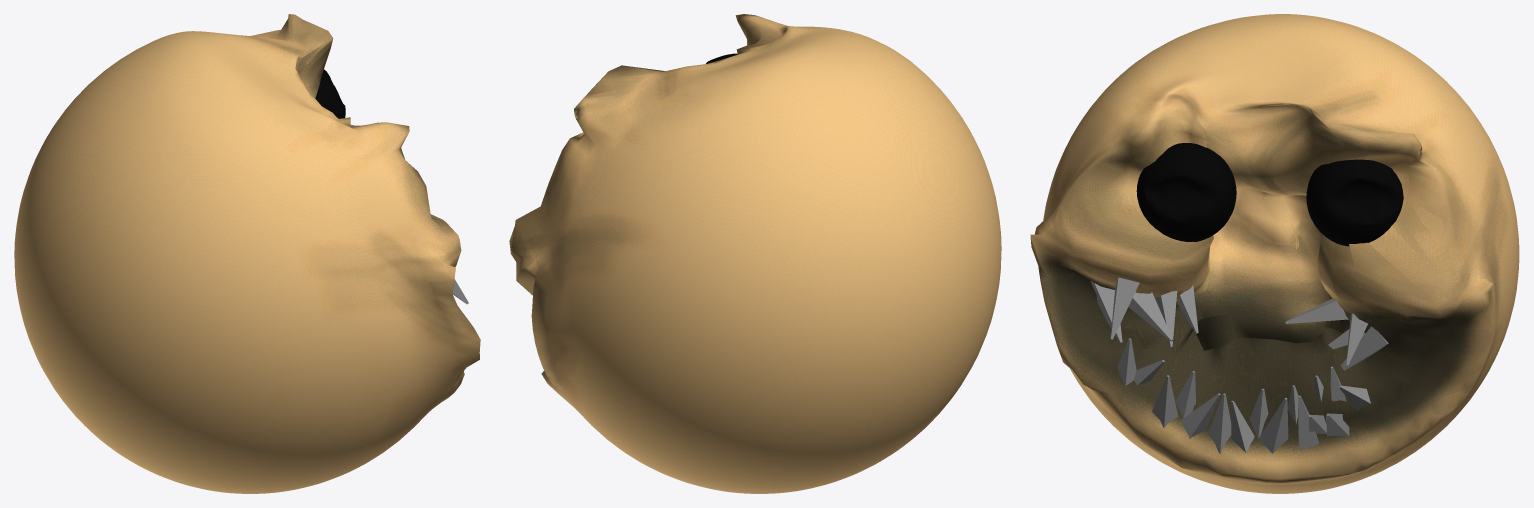
The model's file is dealer head crushed test.glb.
3 renders of one model, left to right at view 1: azimuth 30°, elevation 25°; view 2: azimuth 150°, elevation 25°; view 3: azimuth 270°, elevation 25°, orthographic. The views are drawn at different scales.
Parts seen in each view (by area): view 1: Sphere; view 2: Sphere; view 3: Sphere.
Boxes of the visible parts, bbox=[...] form: Sphere: bbox=[14, 14, 480, 493]; Sphere: bbox=[509, 14, 1001, 493]; Sphere: bbox=[1030, 14, 1519, 493].
Bounding box in the file's own units: 1.88 × 1.95 × 2.03.
Materials: 3 (1 with a texture image).
